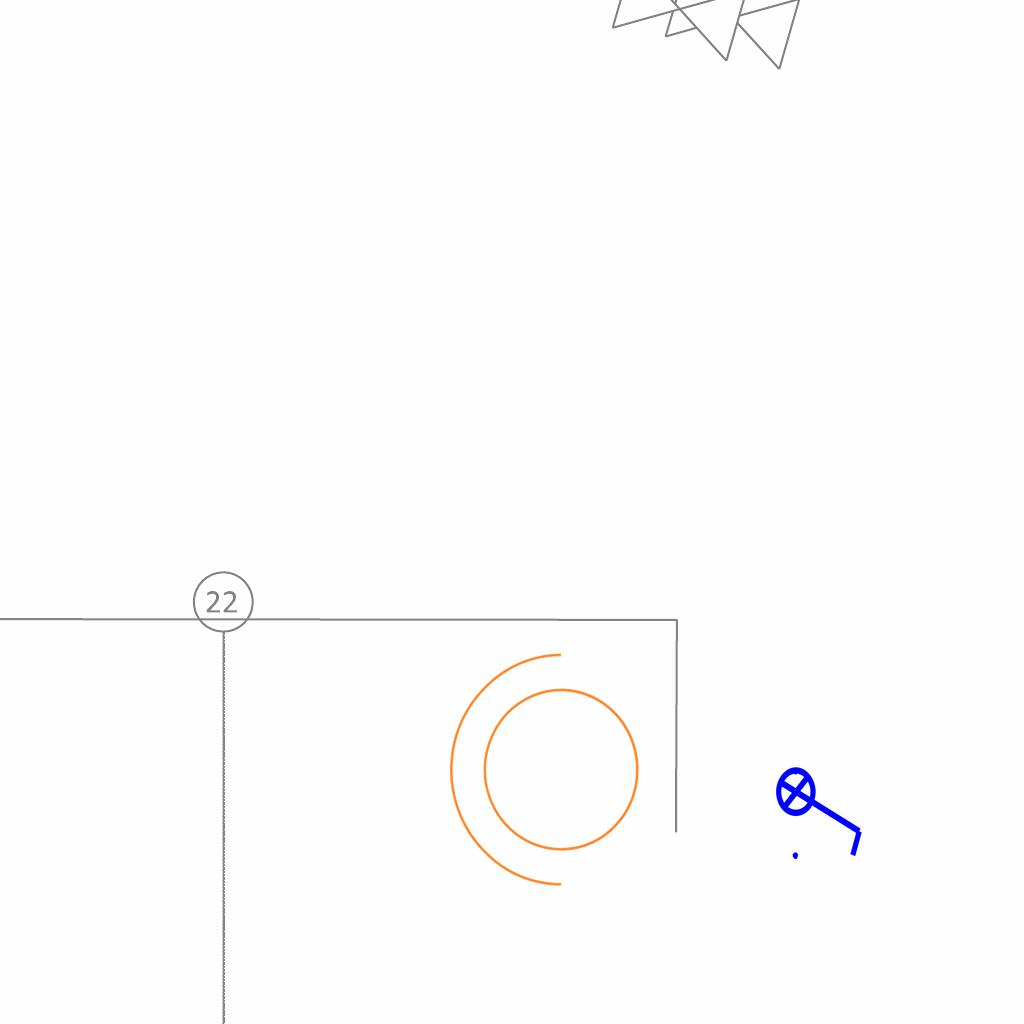Ausschalter_beleuchtet: (774, 753, 870, 865)
Scheinwerfer_fuer_Alarmbeleuchtung: (439, 644, 664, 908)
